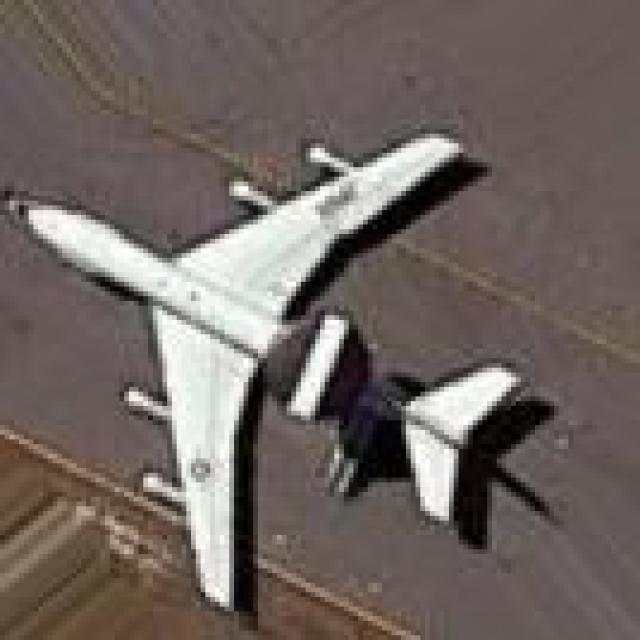E-3_TopDown: (0, 124, 574, 622)
